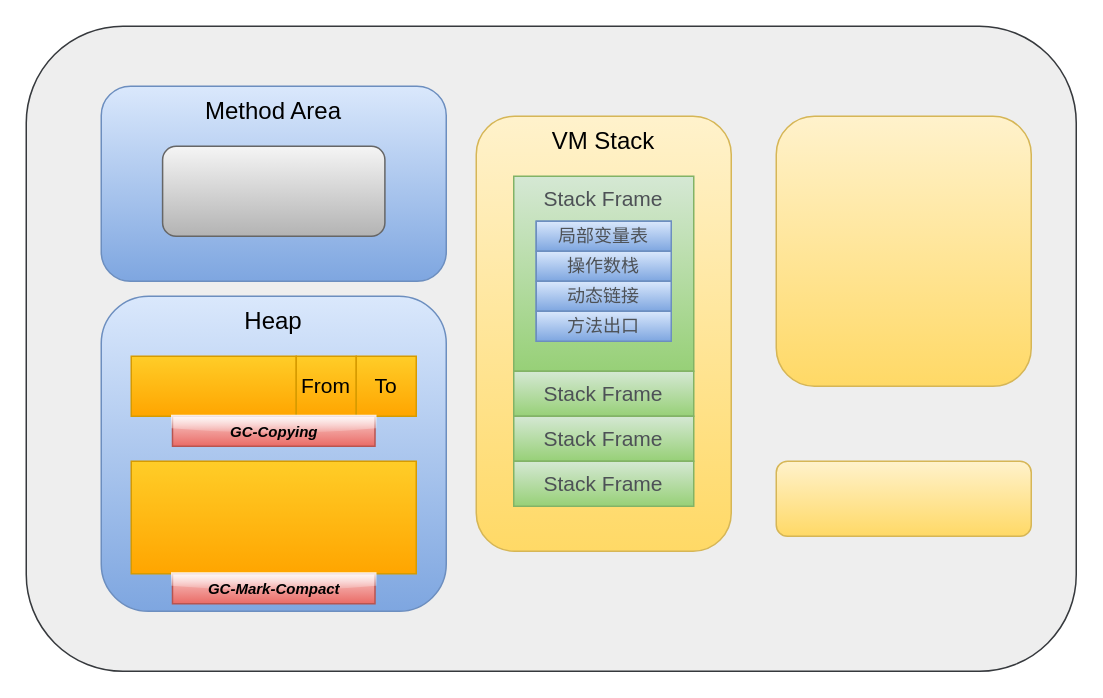
This 1103x698 diagram has some shape labels left out. Each missing label, with the centre of its shape:
"Constant Pool" goes at (273,190).
"Eden" goes at (213,385).
"Native Method Stack" goes at (903,250).
"Old" goes at (273,517).
"Program Counter Register" goes at (903,498).
